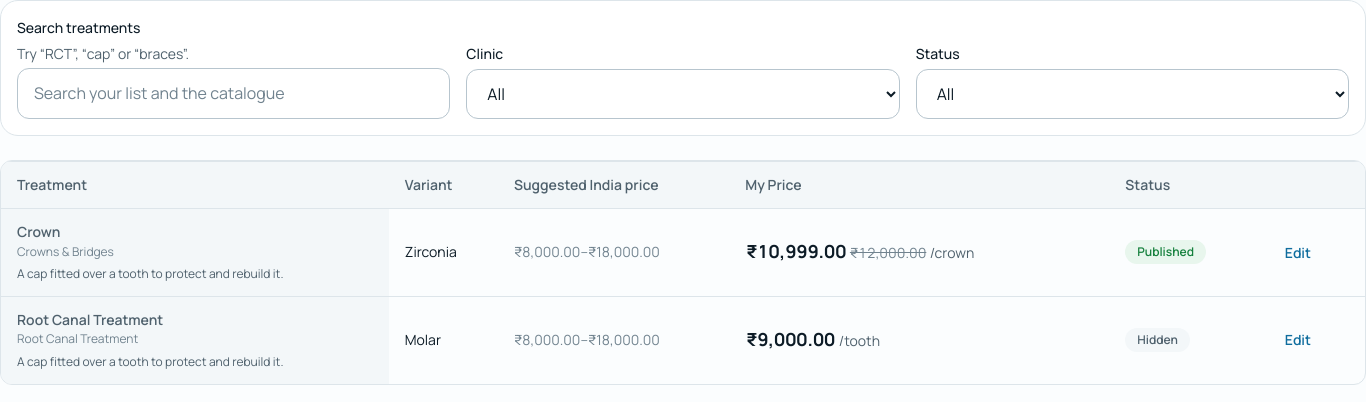
Test case: search and filters › filters to one clinic
Select "Delhi Dental" in the dropdown labelled "Clinic" at x=683, y=94, box [466,69,900,119]
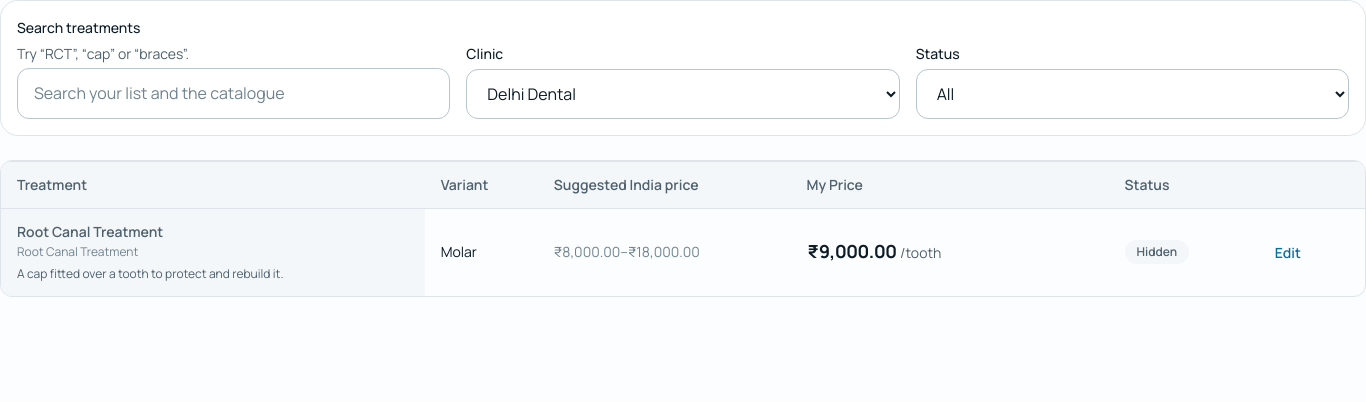
Expected: the 1st text "Root Canal Treatment" is shown, [17,222,163,241]
Expected: the text "Crown" is gone
